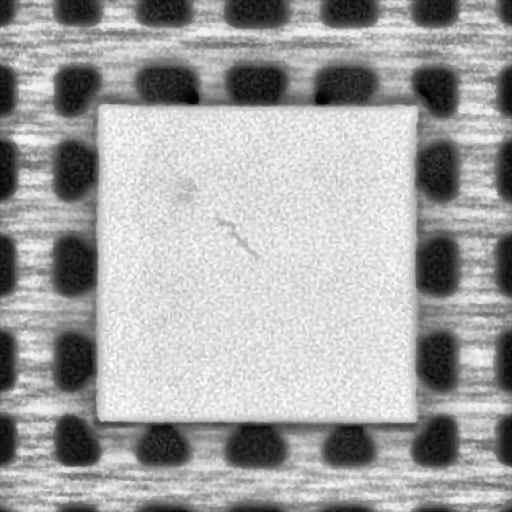DIE_CRACK: (224, 226, 258, 260)
